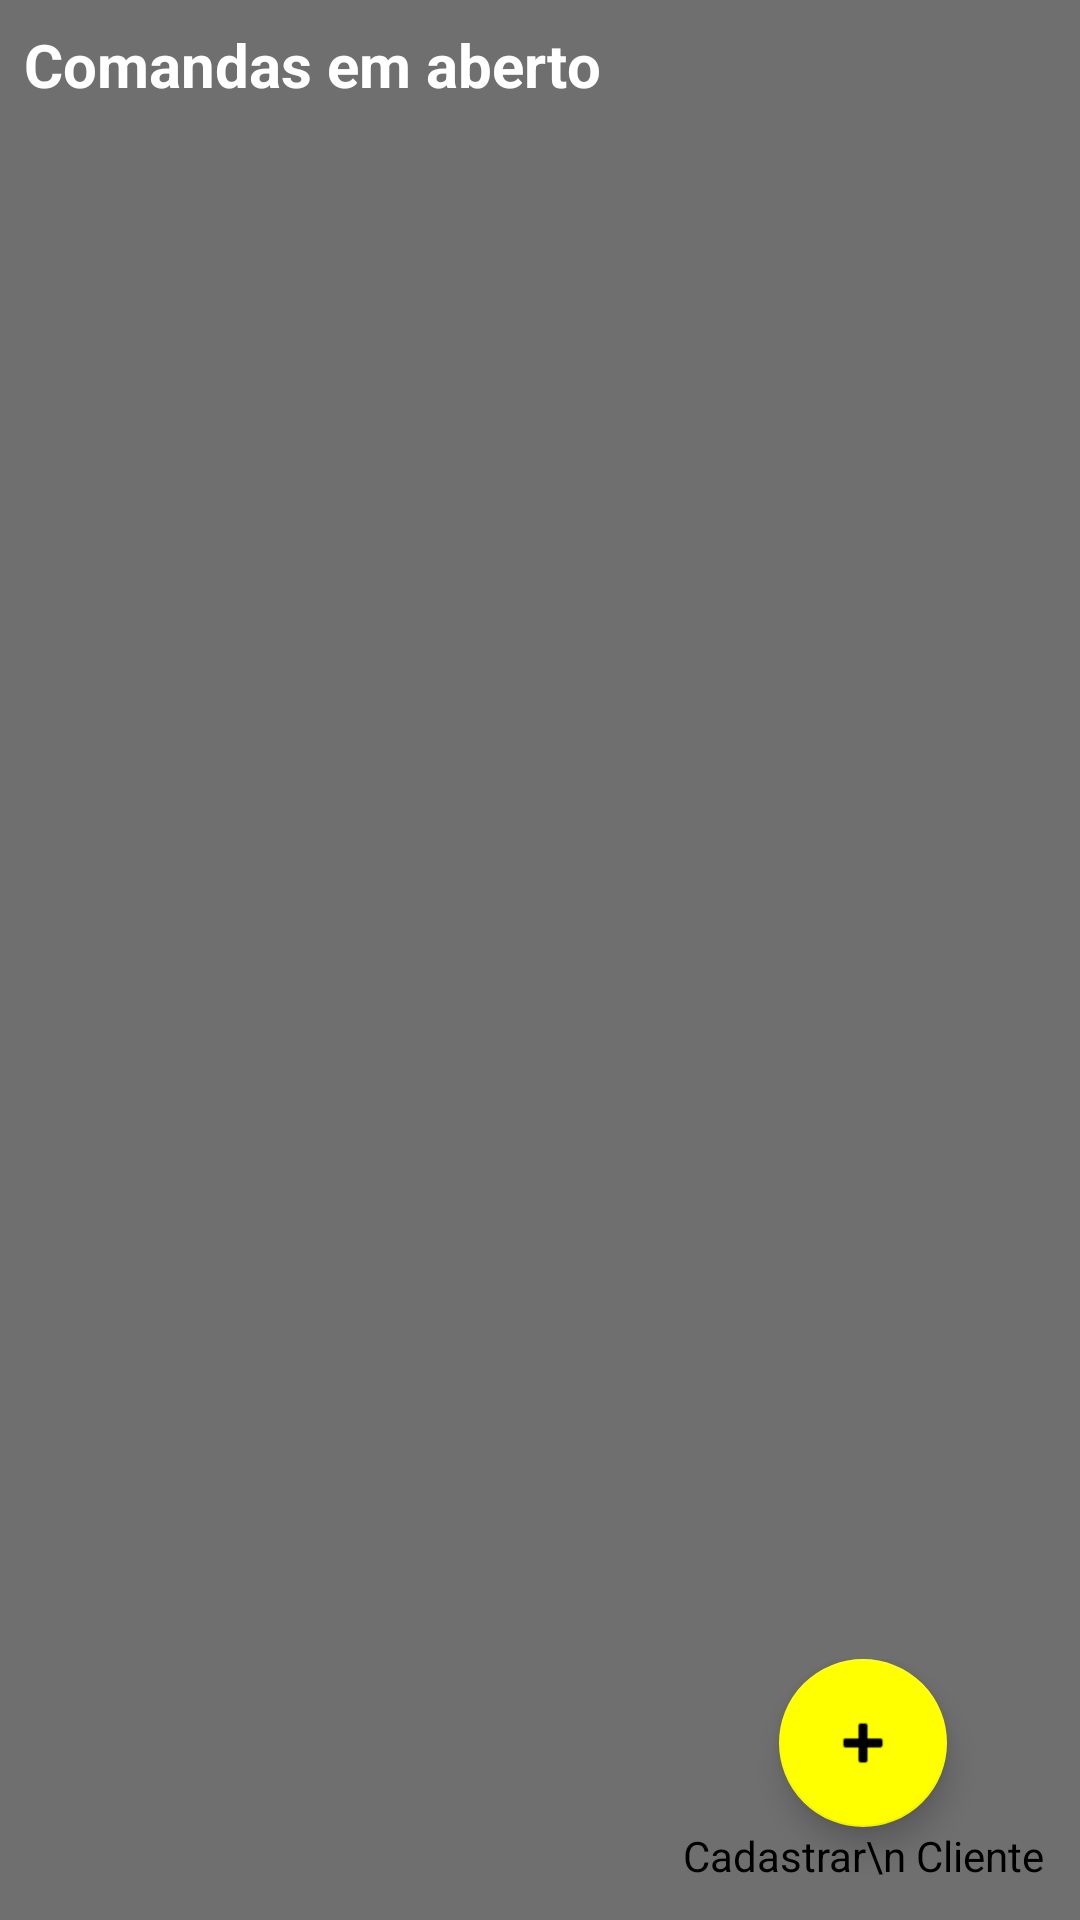

Point at icon controls on the screen. Image size 1080×1920, points as (x=x, y=y).
add: (x=863, y=1743)
